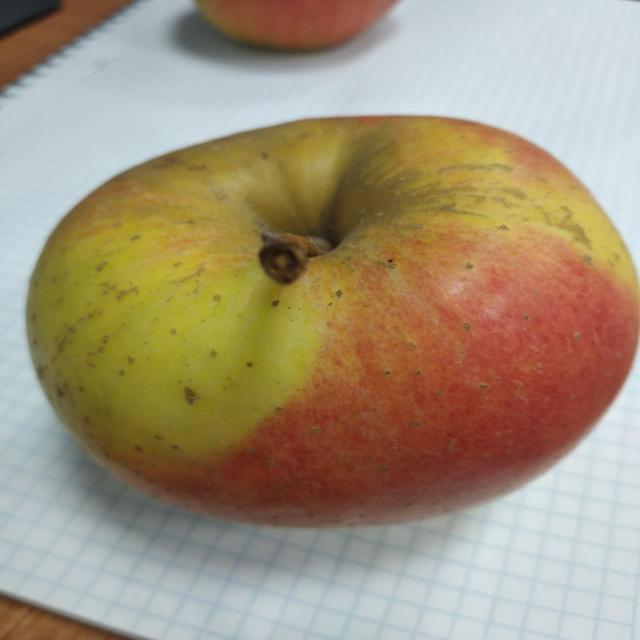Healty Apple: (28, 115, 627, 527)
